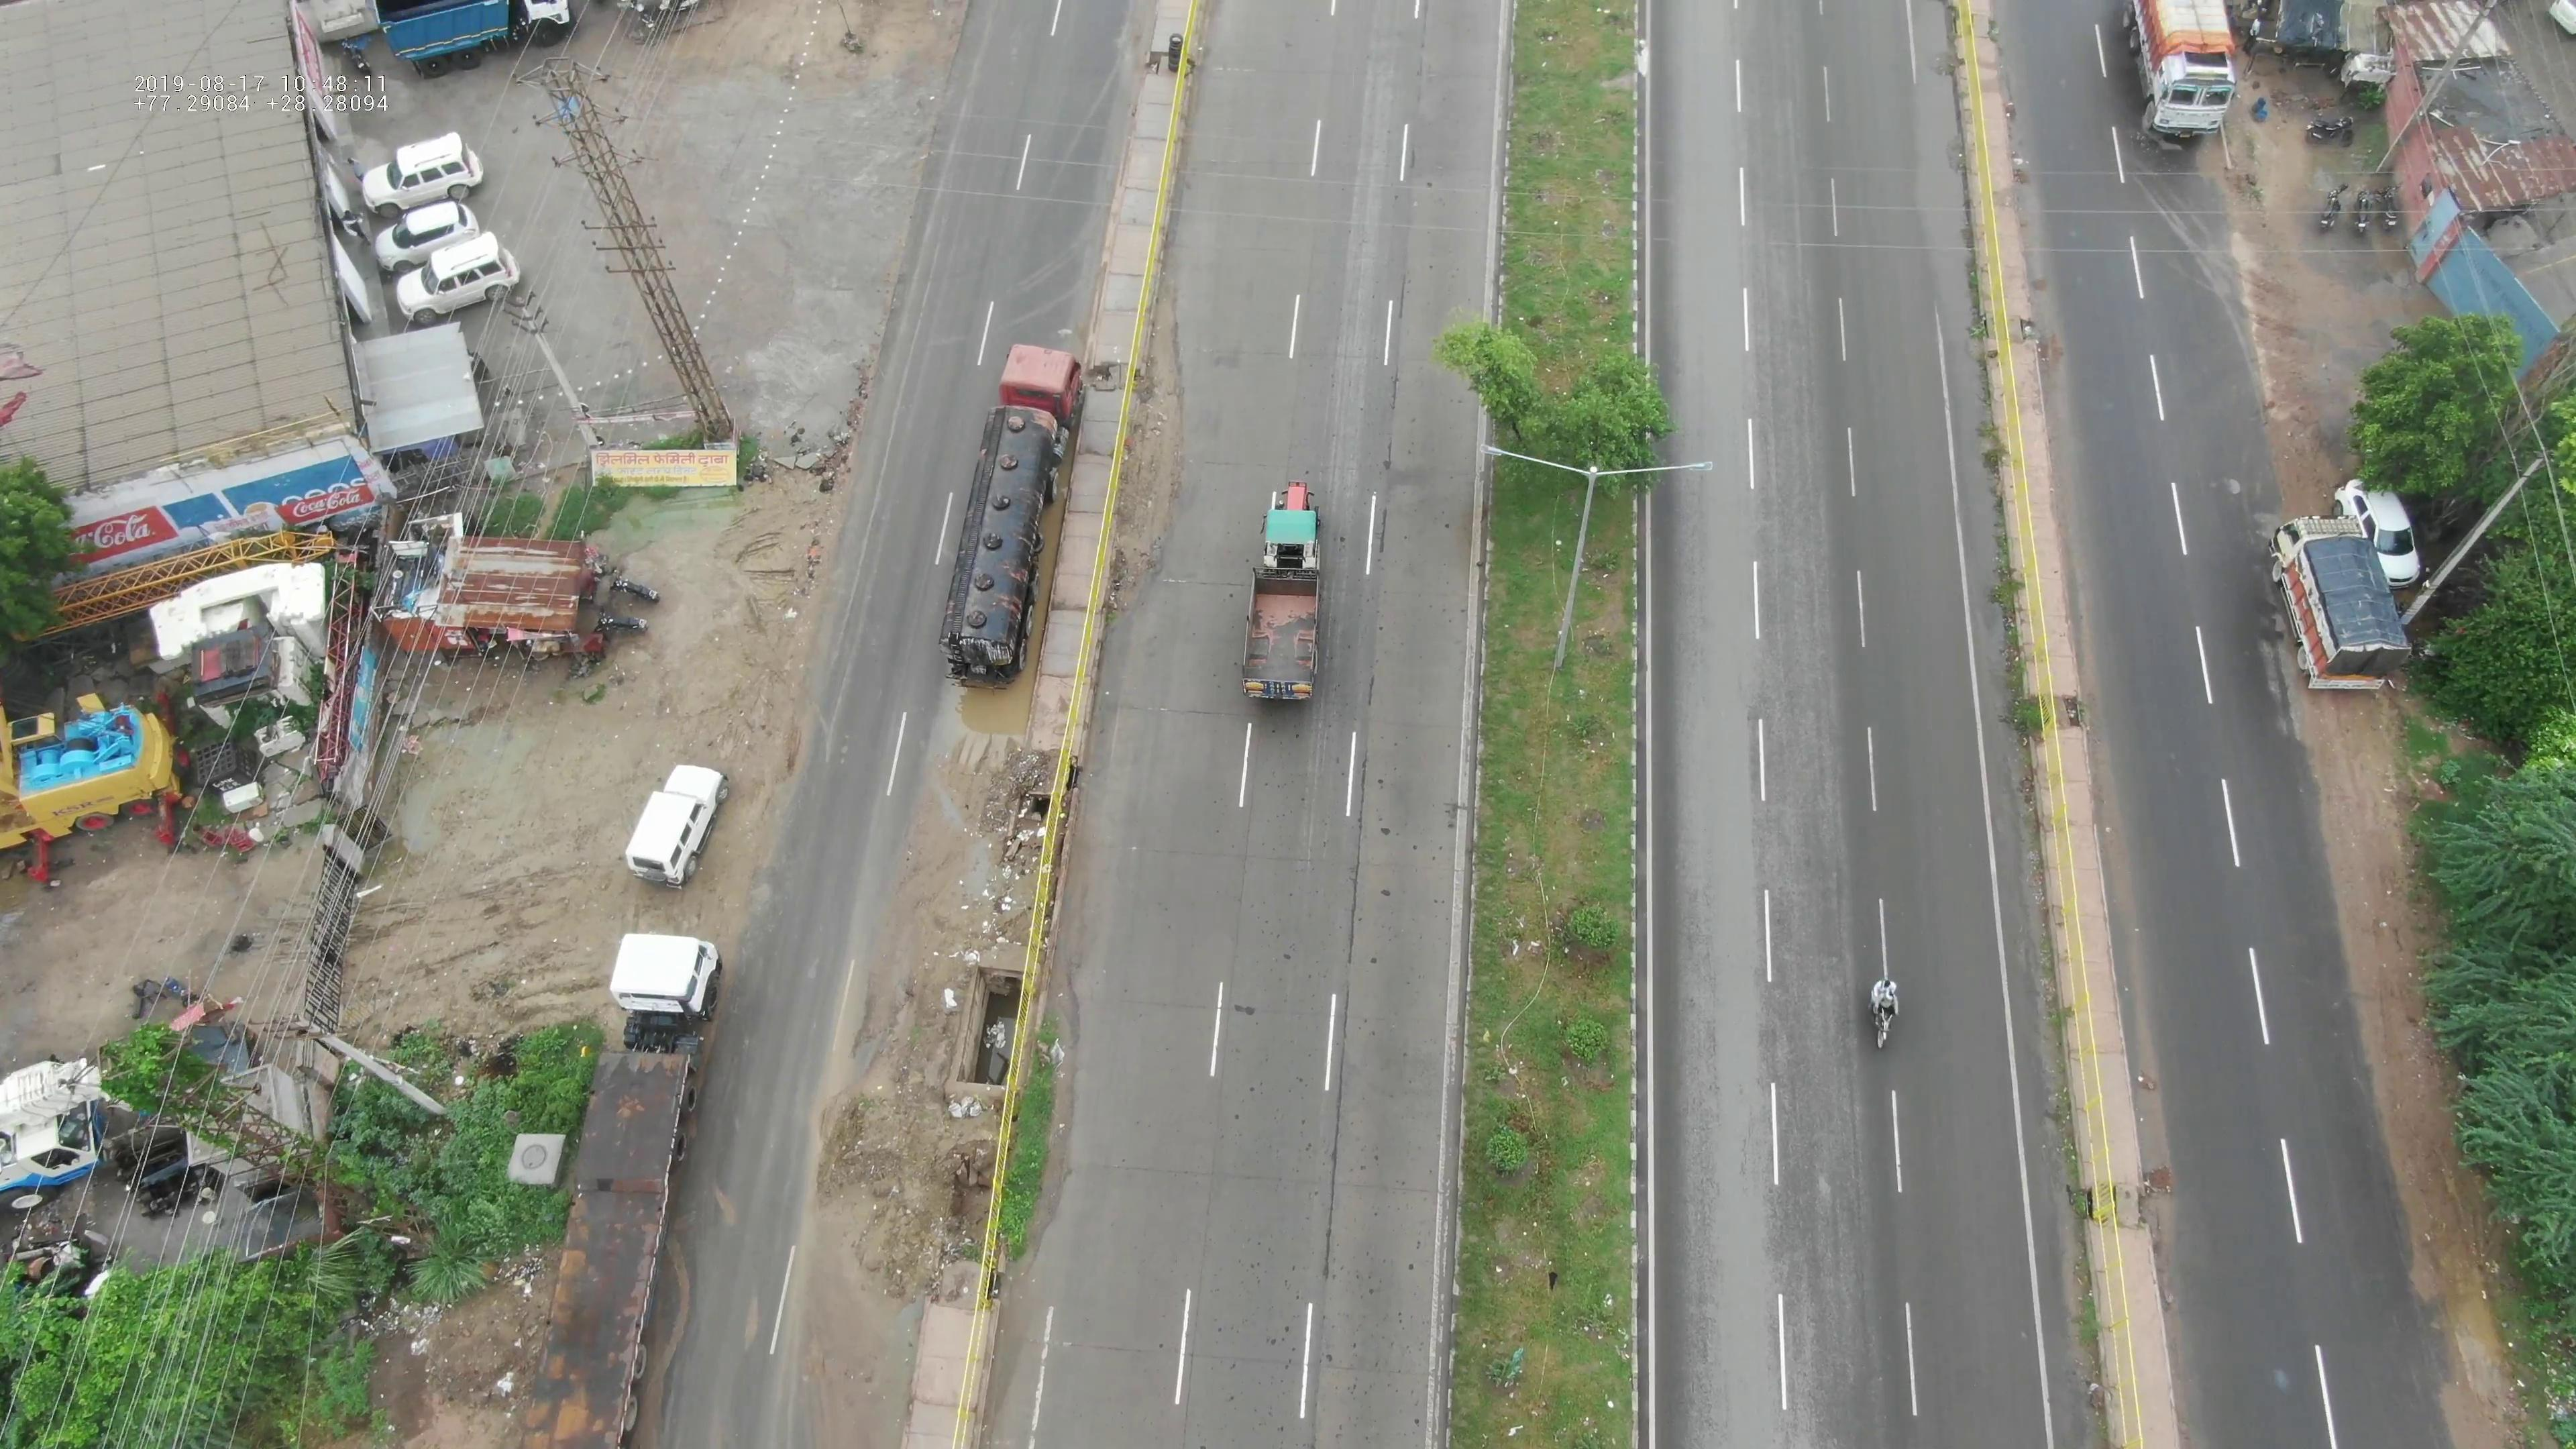Muddy_road: (810, 1005, 943, 1288)
